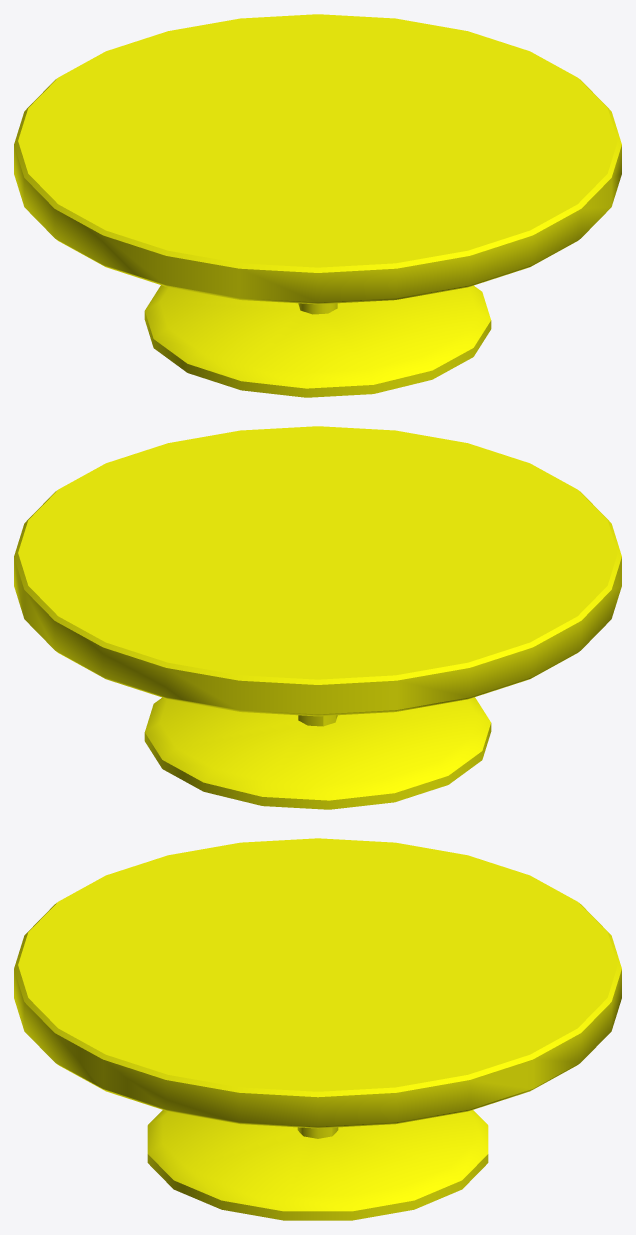
The model's file is table_round_A.gltf.
The picture shows the model from 3 angles, top to bottom: view 1: azimuth 30°, elevation 25°; view 2: azimuth 150°, elevation 25°; view 3: azimuth 270°, elevation 25°; orthographic projection.
Parts seen in each view (by area): view 1: table_round_A; view 2: table_round_A; view 3: table_round_A.
Part boxes in pixels (left/top/right/bottom): table_round_A: left=14, top=14, right=621, bottom=397; table_round_A: left=14, top=426, right=621, bottom=809; table_round_A: left=14, top=838, right=621, bottom=1220.
Size of the model in its own units: 3 by 1 by 3.
Materials: 1 (1 with a texture image).
